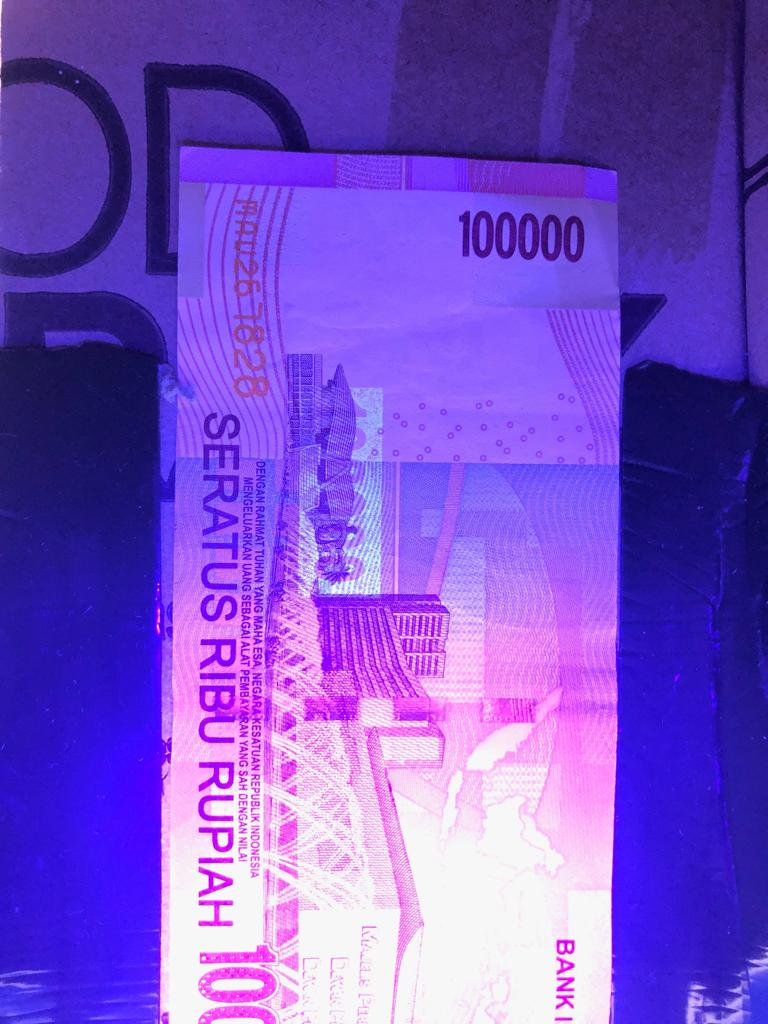100_RIBU_ASLI: (300, 380, 385, 604)
